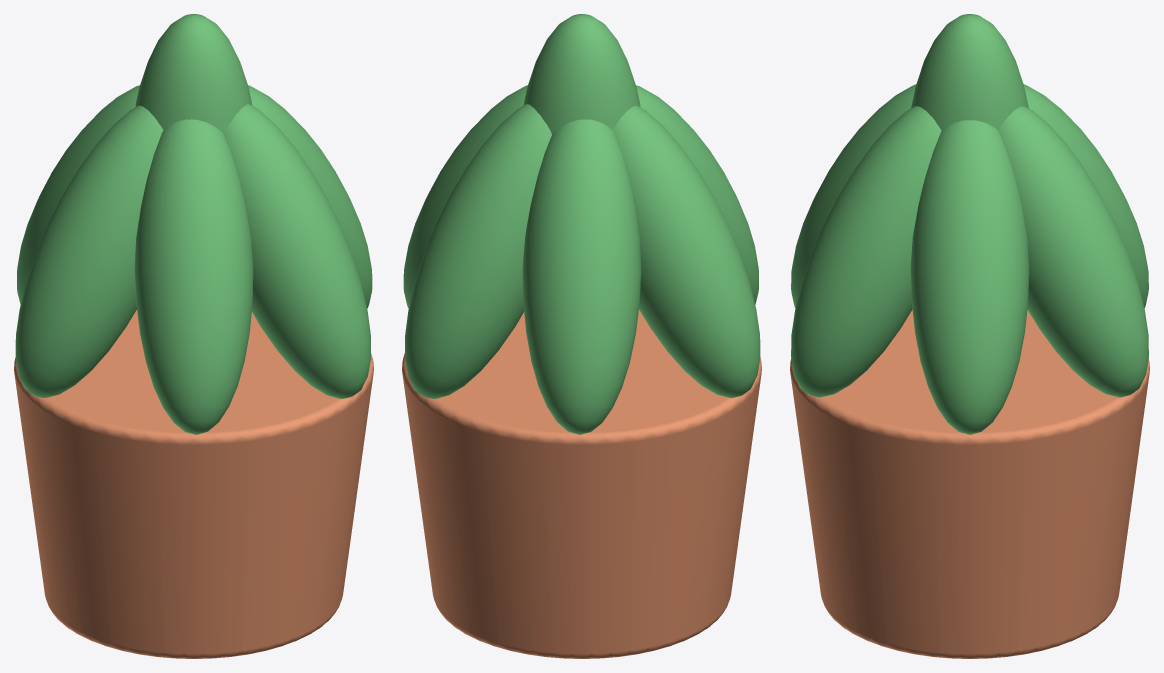
The model's file is plant.glb.
3 renders of one model, left to right at view 1: azimuth 30°, elevation 25°; view 2: azimuth 150°, elevation 25°; view 3: azimuth 270°, elevation 25°, orthographic.
Parts seen in each view (by area): view 1: Pot, Leaf_4, Leaf_5, Leaf_3, LeafTop, Leaf_0, Leaf_2; view 2: Pot, Leaf_2, Leaf_1, Leaf_3, LeafTop, Leaf_0, Leaf_4; view 3: Pot, Leaf_0, Leaf_1, Leaf_5, LeafTop, Leaf_2, Leaf_4.
Boxes of the visible parts, bbox=[...] form: Pot: bbox=[14, 310, 373, 658]; Leaf_4: bbox=[134, 119, 253, 434]; Leaf_5: bbox=[224, 104, 370, 398]; Leaf_3: bbox=[15, 105, 163, 397]; LeafTop: bbox=[135, 14, 252, 134]; Leaf_0: bbox=[248, 85, 372, 308]; Leaf_2: bbox=[17, 85, 139, 304]; Pot: bbox=[402, 310, 761, 658]; Leaf_2: bbox=[522, 119, 641, 434]; Leaf_1: bbox=[405, 104, 551, 398]; Leaf_3: bbox=[612, 105, 760, 397]; LeafTop: bbox=[523, 14, 640, 134]; Leaf_0: bbox=[403, 85, 527, 308]; Leaf_4: bbox=[636, 85, 758, 304]; Pot: bbox=[790, 310, 1149, 658]; Leaf_0: bbox=[910, 120, 1029, 434]; Leaf_1: bbox=[998, 106, 1148, 397]; Leaf_5: bbox=[791, 106, 941, 397]; LeafTop: bbox=[911, 14, 1028, 130]; Leaf_2: bbox=[1023, 84, 1148, 307]; Leaf_4: bbox=[791, 84, 916, 307].
Bounding box in the file's own units: 1.21 × 1.95 × 1.09.
